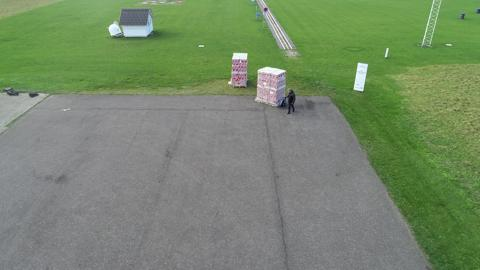RockwoolPallet: (232, 53, 250, 91)
